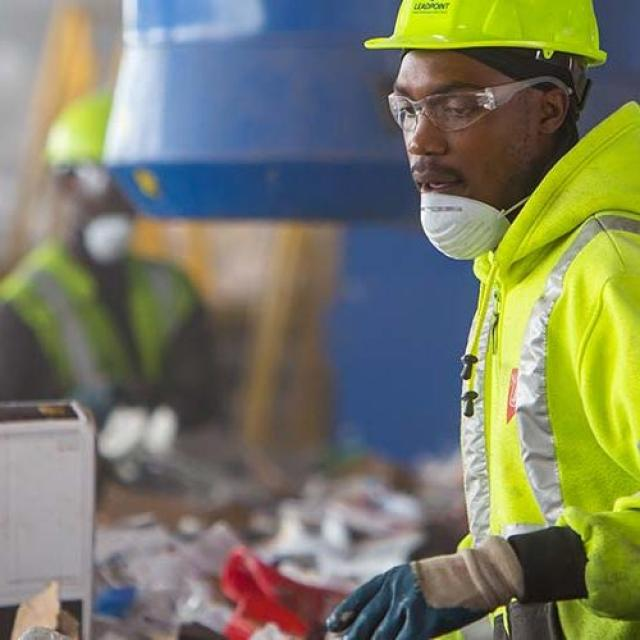goggles: (374, 74, 564, 132)
helmet: (363, 0, 640, 77)
vest: (452, 238, 640, 639)
